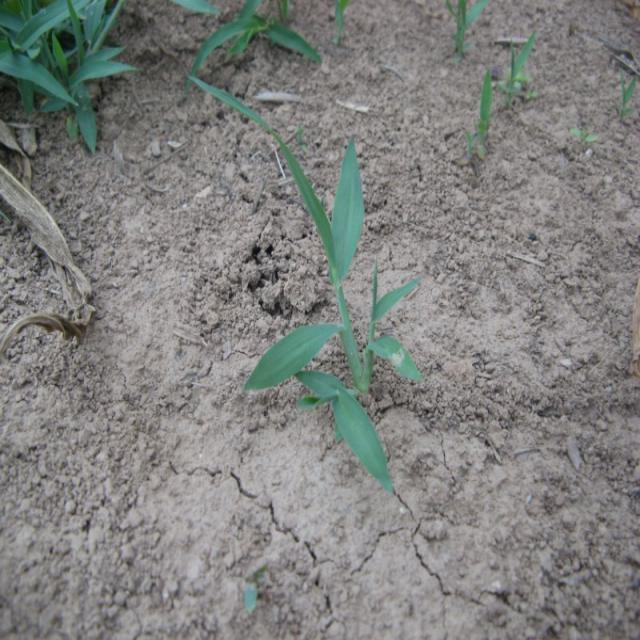bg: (245, 122, 429, 484)
